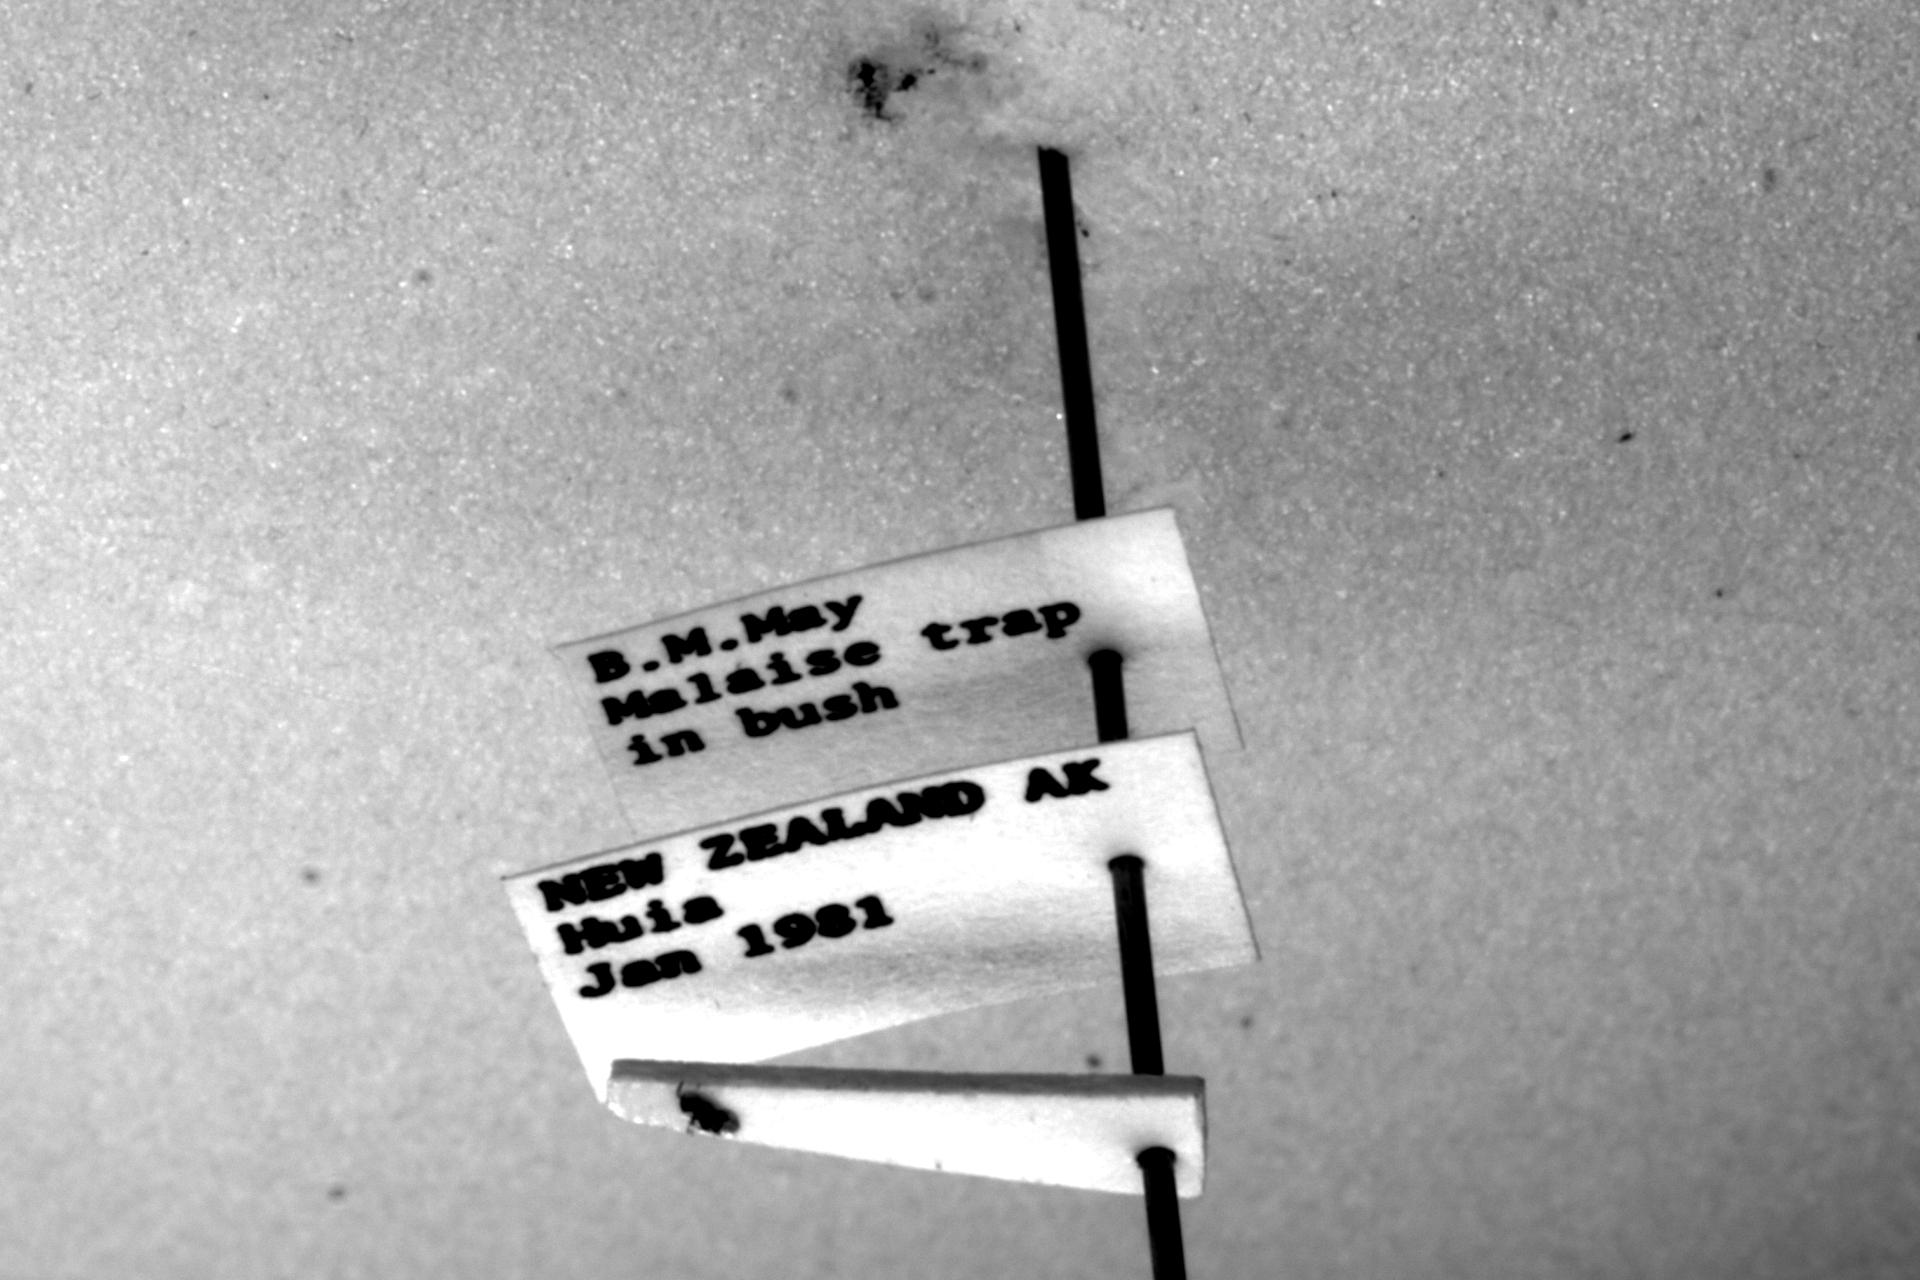typed_label: (506, 734, 1256, 1094), (559, 506, 1241, 840)
